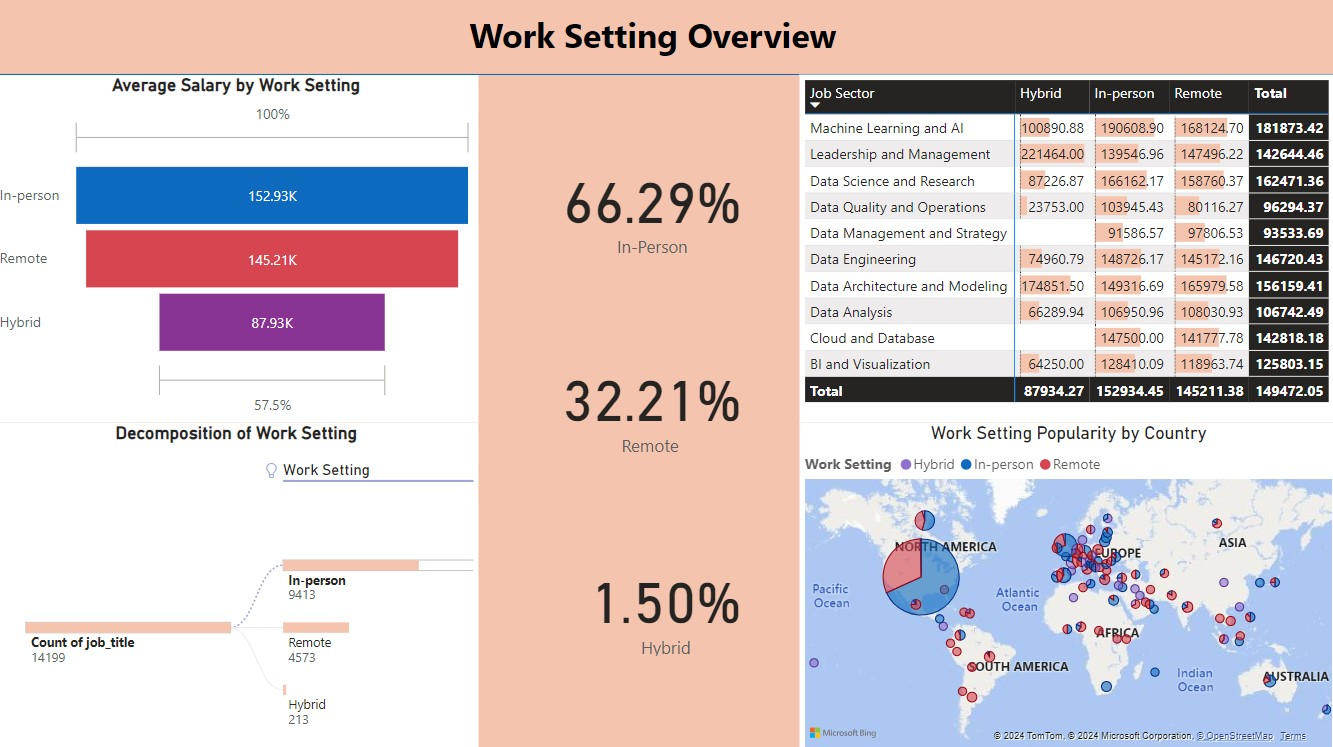

The dashboard page shown, as its layout file describes it:
{"tool":"powerbi","page":{"name":"Work Setting","canvas":[1280,720],"ordinal":0},"visuals":[{"type":"funnel","fields":{"Category":["jobs_in_data_2024.work_setting"],"Y":["Avg(Jobs_count.salary_in_usd)"]},"box":[0,73.3,461.1,331.1],"z":0},{"type":"shape","title":"Work Setting Overview","box":[0,0,1280,73.3],"z":1000},{"type":"decompositionTreeVisual","title":"Decomposition of Work Setting","fields":{"Analyze":["CountNonNull(Jobs_count.job_title)"],"ExplainBy":["Jobs_count.work_setting"]},"box":[0,404.7,461.5,315.3],"z":2000},{"type":"pivotTable","fields":{"Columns":["Jobs_count.work_setting"],"Rows":["Jobs_count.job_category"],"Values":["Avg(Jobs_count.salary_in_usd)"]},"box":[766.7,73.3,513.3,331.1],"z":3000},{"type":"card","fields":{"Values":["Jobs_count.Measure"]},"box":[507.8,146.7,238.9,102.2],"z":4000},{"type":"card","fields":{"Values":["Jobs_count.Measure"]},"box":[506.7,335.6,238.9,103.3],"z":5000},{"type":"card","fields":{"Values":["Jobs_count.Measure"]},"box":[520,527.8,238.9,104.4],"z":6000},{"type":"map","title":"Work Setting Popularity by Country","fields":{"Category":["Jobs_count.employee_residence"],"Series":["Jobs_count.work_setting"],"Size":["CountNonNull(Jobs_count.work_setting)"]},"box":[766.9,404.7,512.7,315.3],"z":7000},{"type":"textbox","box":[172.2,6.7,908.9,66.7],"z":8000}]}

Visuals, with their boxes in screenshot pixels (x1, y1, x2, y2), scaled from the page's 1280x720 canvas onto the 1333x747 screenshot:
funnel - jobs_in_data_2024.work_setting x Avg(Jobs_count.salary_in_usd): (0,76,480,420)
"Work Setting Overview" shape: (0,0,1332,76)
"Decomposition of Work Setting" decompositionTreeVisual: (0,420,481,746)
pivotTable - Jobs_count.work_setting x Jobs_count.job_category: (798,76,1332,420)
card - Jobs_count.Measure: (529,152,778,258)
card - Jobs_count.Measure: (528,348,776,455)
card - Jobs_count.Measure: (542,548,790,656)
"Work Setting Popularity by Country" map: (799,420,1332,746)
textbox: (179,7,1126,76)
